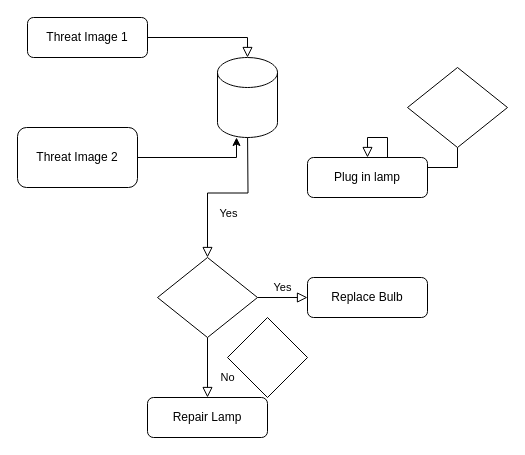
Image size: 525x455. Some labels were removed from this diagram. The shapes that lost their labels are listed below. From the top down, each one's box as (x1, y1, x2, y2) in pixels, then its label:
(216, 56, 278, 138): Autocrop Sift Algo
(406, 66, 508, 148): Lamp plugged in?
(156, 256, 258, 338): Bulb burned out?
